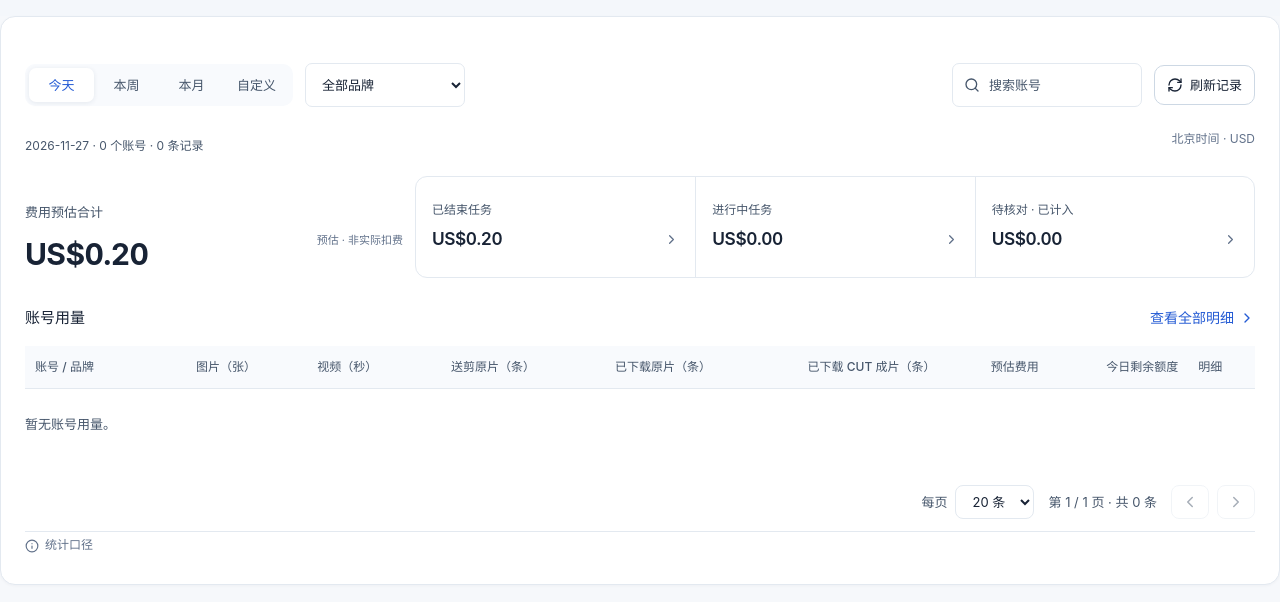
Test: administrator-only usage workspace › does not retain financial rows after an authorization failure
Click the button "刷新记录": (1204, 85) 1154,65 -> 1255,105
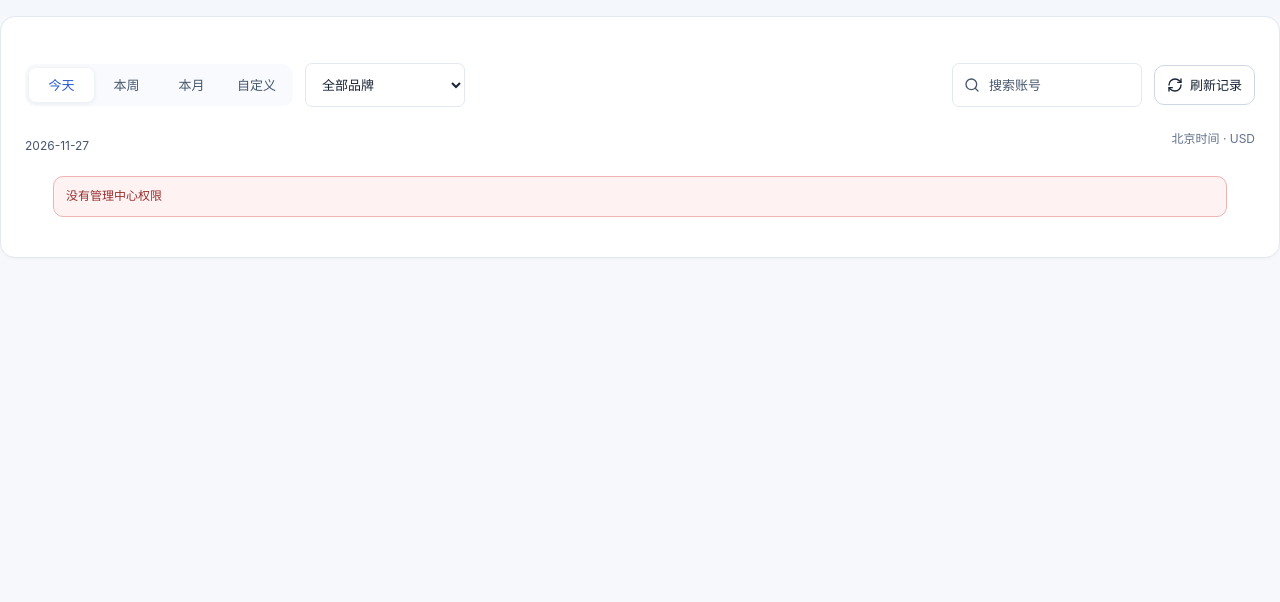
Expected: the message "没有管理中心权限" is shown, 53,176 -> 1227,217
Expected: the table is gone
